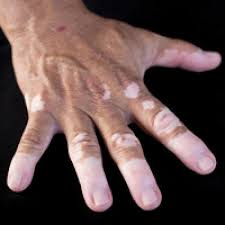vitiligo: (20, 56, 189, 196)
